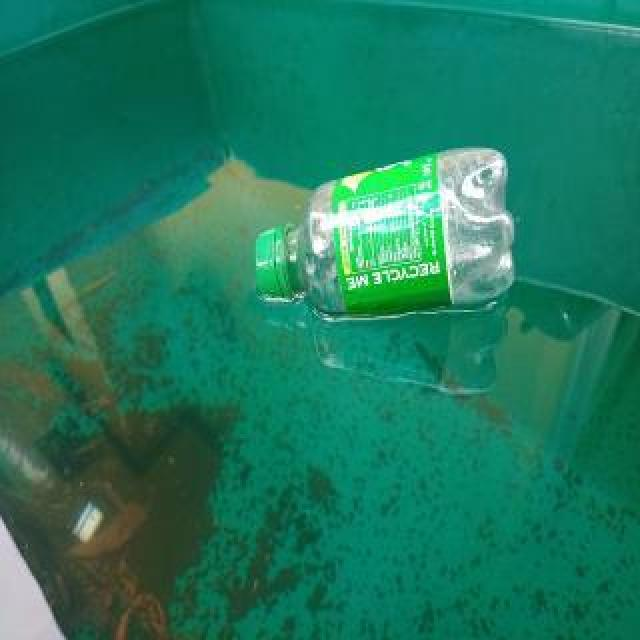bottle: (250, 141, 518, 323)
